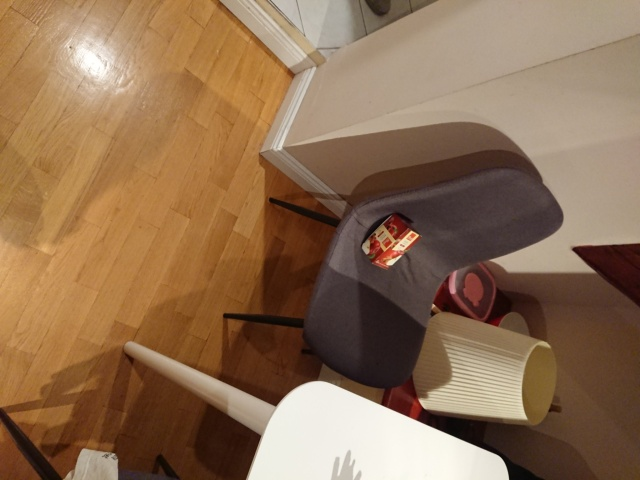Franck Apple Cinnamon Tea 60g: (358, 211, 424, 272)
